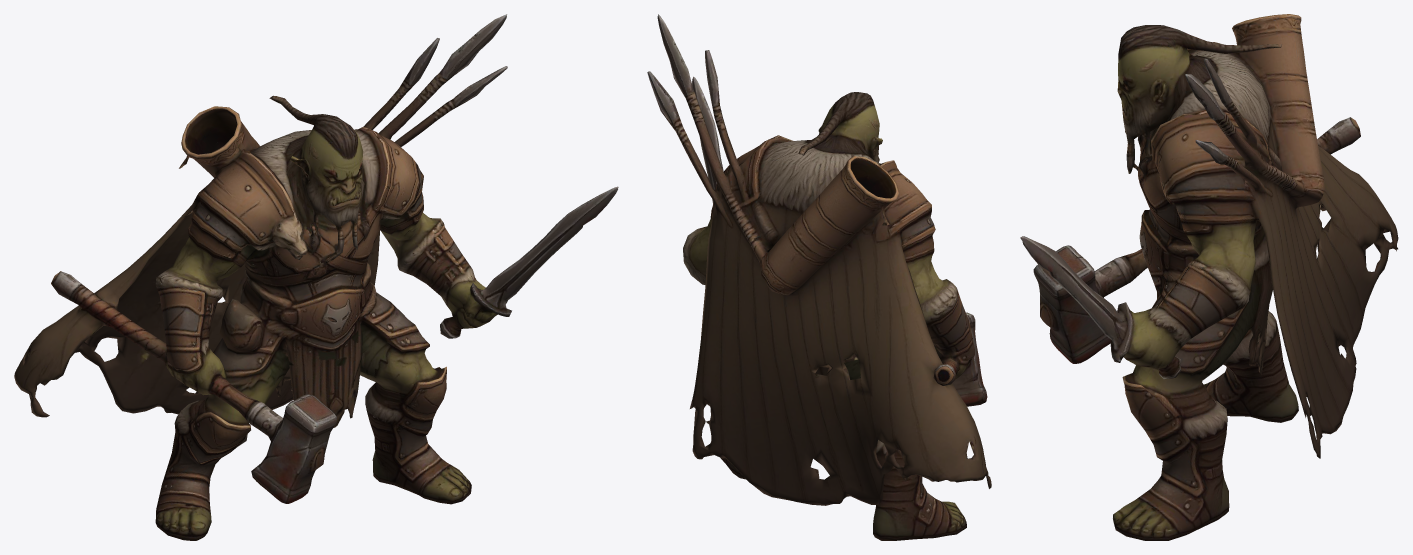
File: Líder Hobgoblin.glb
3 views of the same model, side by side, from view 1: azimuth 30°, elevation 25°; view 2: azimuth 150°, elevation 25°; view 3: azimuth 270°, elevation 25° (orthographic). The views are drawn at different scales.
Visible parts, largest first — view 1: tripo_node_6e19f8a6-993a-45a9-85c8-fc28ada979c9; view 2: tripo_node_6e19f8a6-993a-45a9-85c8-fc28ada979c9; view 3: tripo_node_6e19f8a6-993a-45a9-85c8-fc28ada979c9.
Boxes of the visible parts, bbox=[...] form: tripo_node_6e19f8a6-993a-45a9-85c8-fc28ada979c9: bbox=[14, 14, 618, 540]; tripo_node_6e19f8a6-993a-45a9-85c8-fc28ada979c9: bbox=[647, 14, 991, 540]; tripo_node_6e19f8a6-993a-45a9-85c8-fc28ada979c9: bbox=[1020, 14, 1398, 540].
Size of the model in its own units: 0.9921 by 0.9508 by 0.6475.
1 material, 1 textured.
